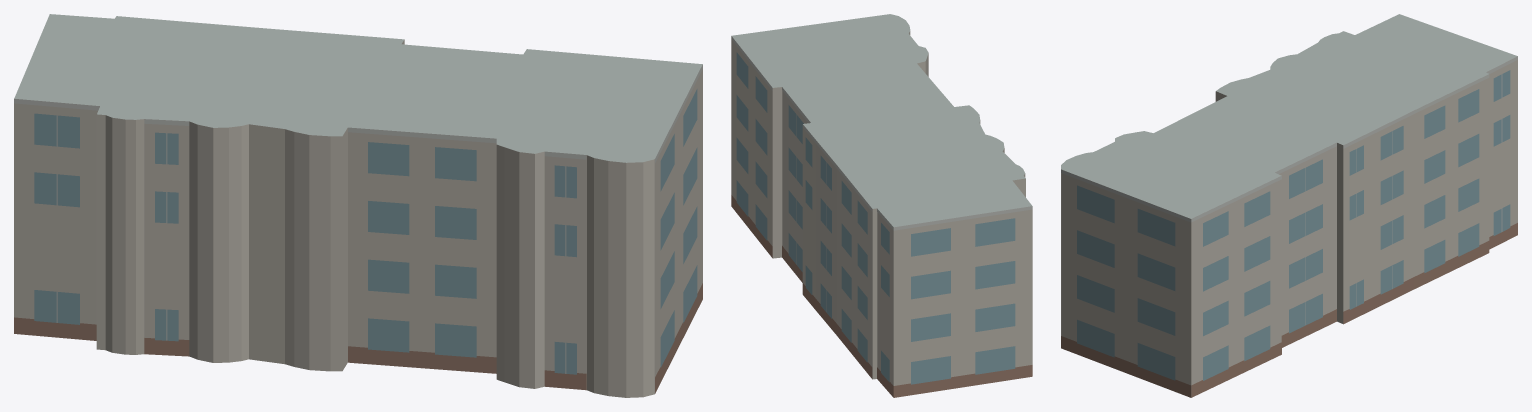
The model's file is survey-upis-33010058.glb.
3 views of the same model, side by side, from view 1: azimuth 30°, elevation 25°; view 2: azimuth 150°, elevation 25°; view 3: azimuth 270°, elevation 25° (orthographic). The views are drawn at different scales.
Visible parts, largest first — view 1: survey-upis-33010058.tmp; view 2: survey-upis-33010058.tmp; view 3: survey-upis-33010058.tmp.
Part boxes in pixels (left/top/right/bottom): survey-upis-33010058.tmp: left=14, top=14, right=702, bottom=397; survey-upis-33010058.tmp: left=731, top=14, right=1032, bottom=397; survey-upis-33010058.tmp: left=1061, top=14, right=1517, bottom=397.
Size of the model in its own units: 29.98 by 12.2 by 28.23.
